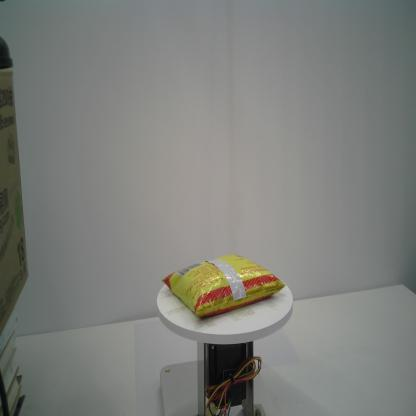Seasoner: (161, 253, 287, 318)
